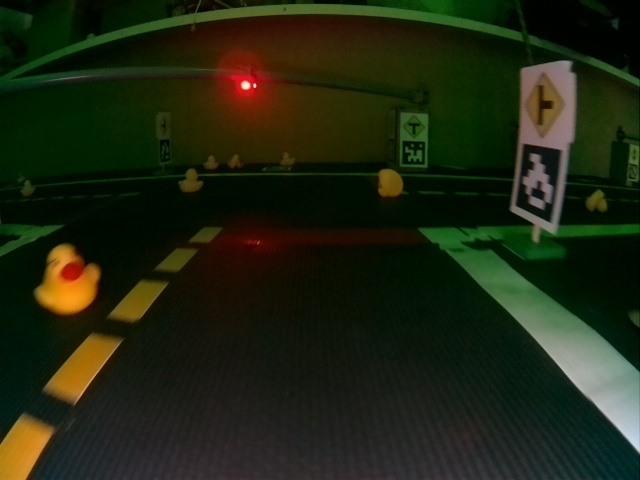Duckie: (39, 243, 100, 315), (378, 168, 402, 197), (179, 169, 202, 191), (587, 190, 608, 211), (22, 180, 34, 196), (282, 153, 295, 165), (228, 155, 242, 166), (208, 158, 218, 168)
Intersection sign: (523, 66, 568, 141), (402, 114, 427, 139), (158, 113, 170, 136)
QR code: (519, 144, 561, 226), (401, 140, 426, 166), (158, 139, 171, 163)
Traffic light: (238, 70, 258, 92)
